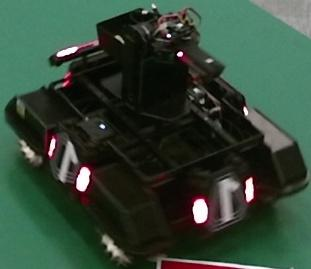armor_1: (192, 177, 255, 224), (48, 139, 91, 193)
front_1: (207, 173, 247, 231)
right_1: (50, 131, 81, 187)
